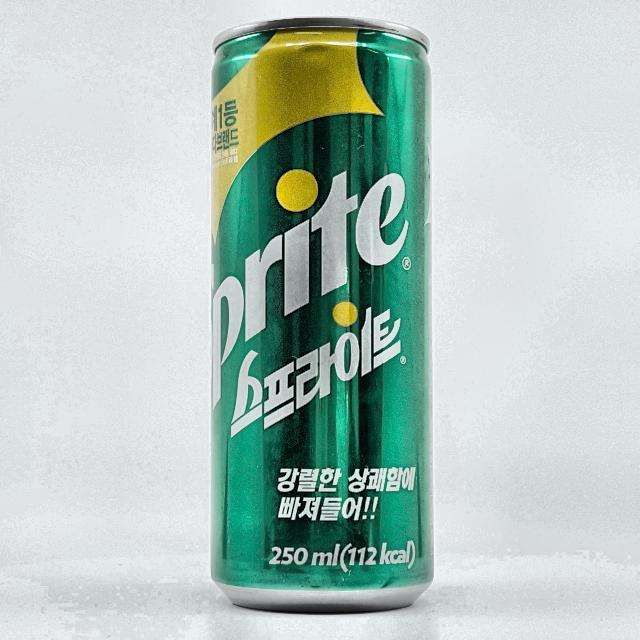sprite: (211, 18, 432, 612)
